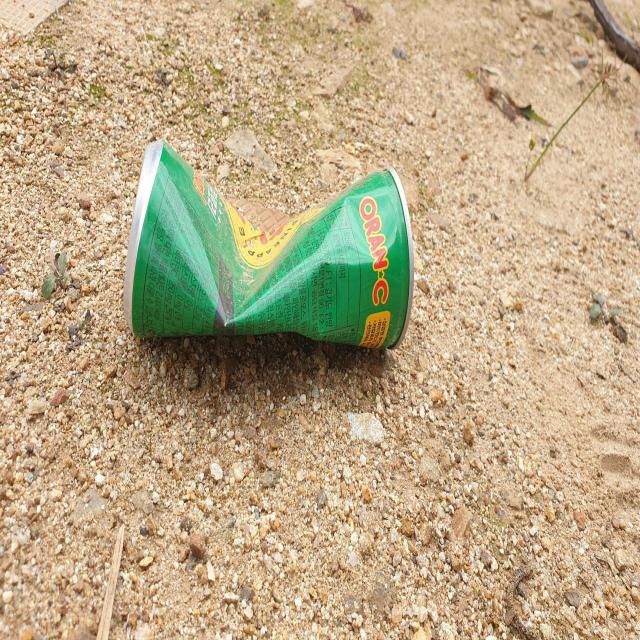can: (123, 140, 414, 348)
